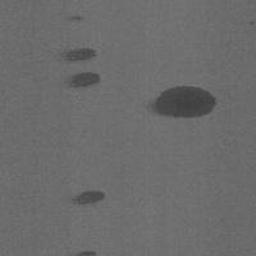Oil spot: (146, 83, 219, 120), (63, 70, 101, 90), (69, 188, 106, 207), (60, 46, 99, 63), (74, 248, 97, 256), (67, 14, 86, 23)
